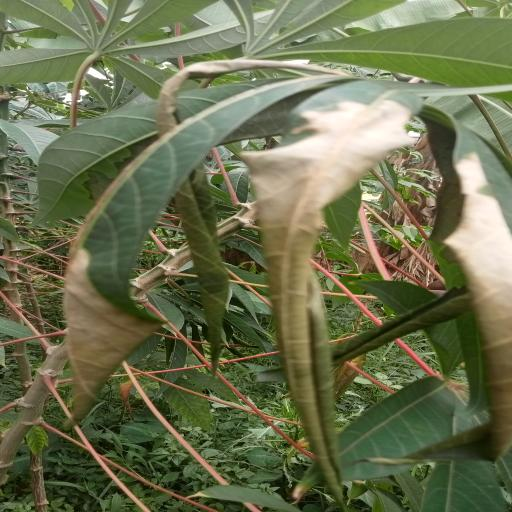Cassava_Root_Rot: (44, 79, 512, 495)
